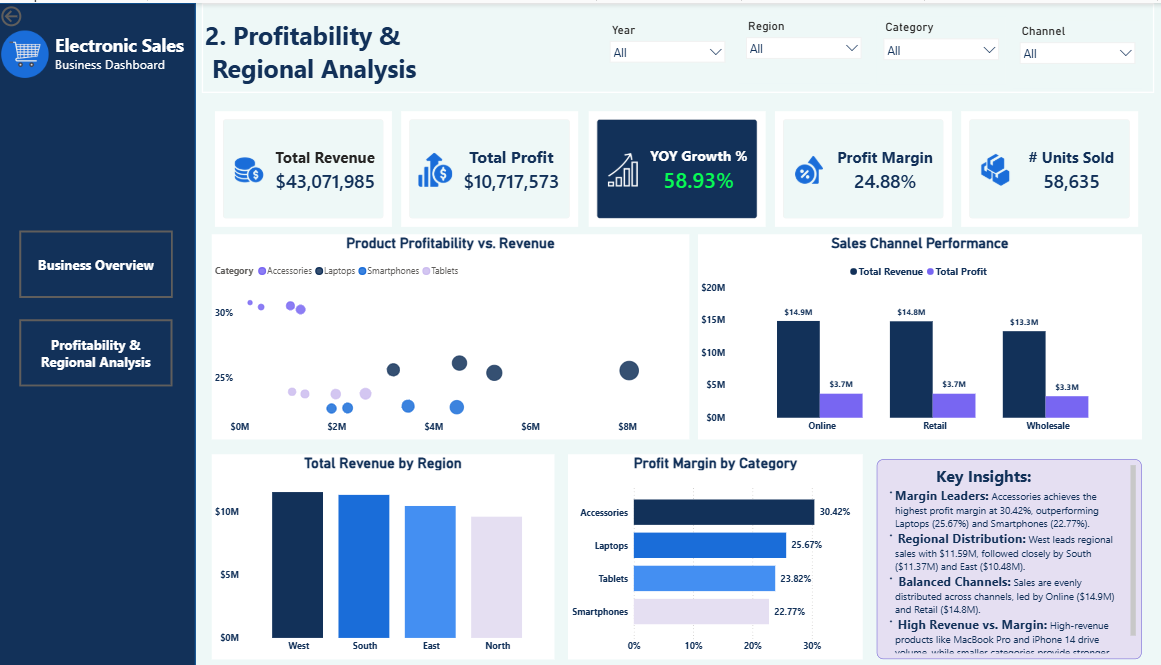

The page's visual inventory and layout, read from the dashboard file:
{"tool":"powerbi","page":{"name":" Profitability &  Regional Analysis","canvas":[1750,1000],"ordinal":1},"visuals":[{"type":"shape","box":[0,0,296.4,999.9],"z":0},{"type":"shape","box":[305.8,0,1429.6,135.1],"z":1000},{"type":"image","box":[0,41.3,80.7,71.3],"z":2000},{"type":"textbox","box":[80.7,39.4,215.7,116.3],"z":3000},{"type":"textbox","box":[305.8,18.8,589.1,108.8],"z":4000},{"type":"slicer","fields":{"Values":["Calender_tbl.Year"]},"box":[908,23.8,193.2,101.3],"z":5000},{"type":"slicer","fields":{"Values":["Data.Region"]},"box":[1113.1,18.8,193.2,101.3],"z":6000},{"type":"slicer","fields":{"Values":["Data.Category"]},"box":[1318.3,21.3,193.2,101.3],"z":7000},{"type":"slicer","fields":{"Values":["Data.Sales Channel"]},"box":[1523.4,26.3,193.2,101.3],"z":8000},{"type":"cardVisual","fields":{"Data":["Measures_tbl.Total Revenue"]},"box":[320.8,157.6,275.8,183.9],"z":9000},{"type":"cardVisual","fields":{"Data":["Measures_tbl.YOY Growth %"]},"box":[880.8,157.6,275.8,183.9],"z":10000},{"type":"cardVisual","fields":{"Data":["Measures_tbl.Total Profit"]},"box":[600.8,157.6,275.8,183.9],"z":11000},{"type":"cardVisual","fields":{"Data":["Measures_tbl.Prrofit Margin"]},"box":[1160.8,157.6,275.8,183.9],"z":12000},{"type":"cardVisual","fields":{"Data":["Measures_tbl.Unit Sold"]},"box":[1440.8,157.6,275.8,183.9],"z":13000},{"type":"textbox","box":[1318.9,684.8,397.7,300.2],"z":14000},{"type":"columnChart","fields":{"Category":["Data.Region"],"Y":["Measures_tbl.Total Revenue"]},"box":[320.8,677.3,514,307.7],"z":15000},{"type":"actionButton","box":[0,0,100,40],"z":16000},{"type":"scatterChart","title":"Product Profitability vs. Revenue","fields":{"Category":["Data.Product Name"],"Series":["Data.Category"],"Size":["Measures_tbl.Total Profit"],"X":["Measures_tbl.Total Revenue"],"Y":["Measures_tbl.Profit Margin"]},"box":[320.8,347.1,716.7,307.7],"z":17000},{"type":"clusteredColumnChart","title":"Sales Channel Performance","fields":{"Category":["Data.Sales Channel"],"Y":["Measures_tbl.Total Revenue","Measures_tbl.Total Profit"]},"box":[1050.6,347.1,666,307.7],"z":18000},{"type":"barChart","fields":{"Category":["Data.Category"],"Y":["Measures_tbl.Profit Margin"]},"box":[855.5,677.3,442.8,307.7],"z":19000},{"type":"actionButton","title":"Business Overview ","box":[31.9,341.4,230.8,101.3],"z":20000},{"type":"actionButton","box":[31.9,474.6,230,101],"z":21000}]}

Visuals, with their boxes on the page's 1750x1000 design canvas (x1, y1, x2, y2). These are canvas units, not pixel positions in the 1161x665 screenshot, which may show the page scaled, cropped or inside an application window:
shape: <box>0,0,296,1000</box>
shape: <box>306,0,1735,135</box>
image: <box>0,41,81,113</box>
textbox: <box>81,39,296,156</box>
textbox: <box>306,19,895,128</box>
slicer - Calender_tbl.Year: <box>908,24,1101,125</box>
slicer - Data.Region: <box>1113,19,1306,120</box>
slicer - Data.Category: <box>1318,21,1512,123</box>
slicer - Data.Sales Channel: <box>1523,26,1717,128</box>
cardVisual - Measures_tbl.Total Revenue: <box>321,158,597,342</box>
cardVisual - Measures_tbl.YOY Growth %: <box>881,158,1157,342</box>
cardVisual - Measures_tbl.Total Profit: <box>601,158,877,342</box>
cardVisual - Measures_tbl.Prrofit Margin: <box>1161,158,1437,342</box>
cardVisual - Measures_tbl.Unit Sold: <box>1441,158,1717,342</box>
textbox: <box>1319,685,1717,985</box>
columnChart - Data.Region x Measures_tbl.Total Revenue: <box>321,677,835,985</box>
actionButton: <box>0,0,100,40</box>
"Product Profitability vs. Revenue" scatterChart: <box>321,347,1038,655</box>
"Sales Channel Performance" clusteredColumnChart: <box>1051,347,1717,655</box>
barChart - Data.Category x Measures_tbl.Profit Margin: <box>856,677,1298,985</box>
"Business Overview " actionButton: <box>32,341,263,443</box>
actionButton: <box>32,475,262,576</box>
